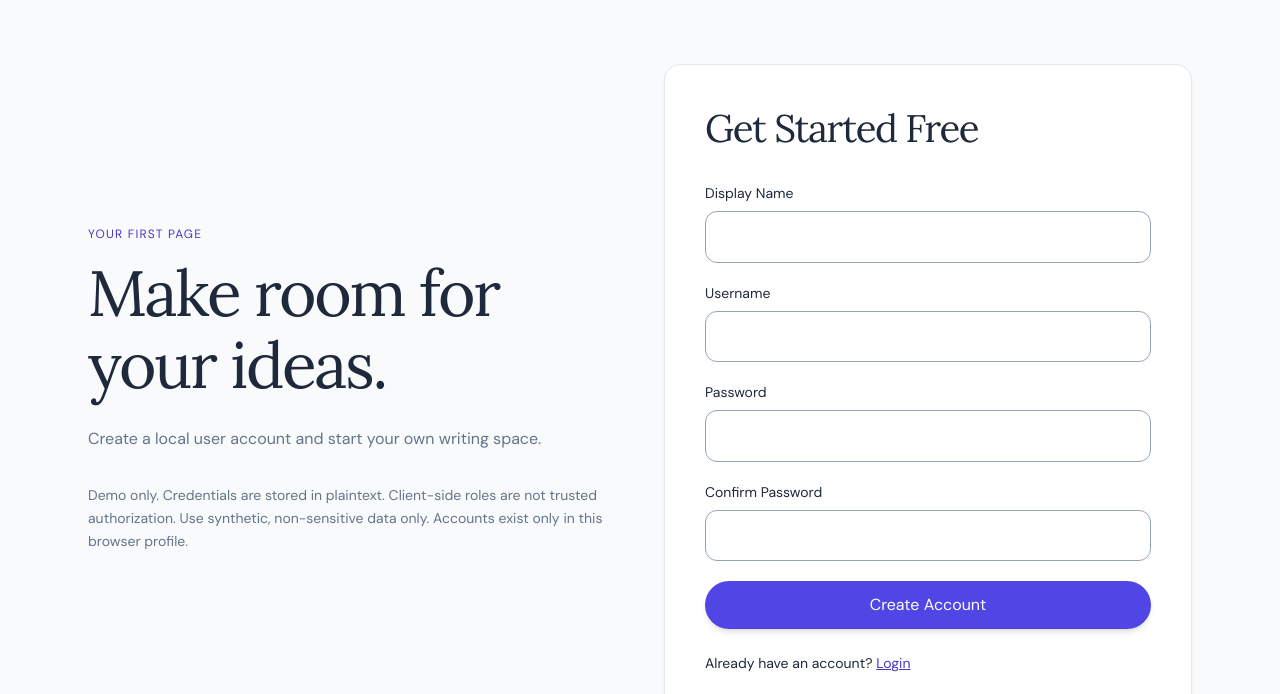
associates all required field errors and writes nothing
This screenshot has width=1280, height=694.
Click the button "Create Account" at (928, 606), box [705,582,1151,630]
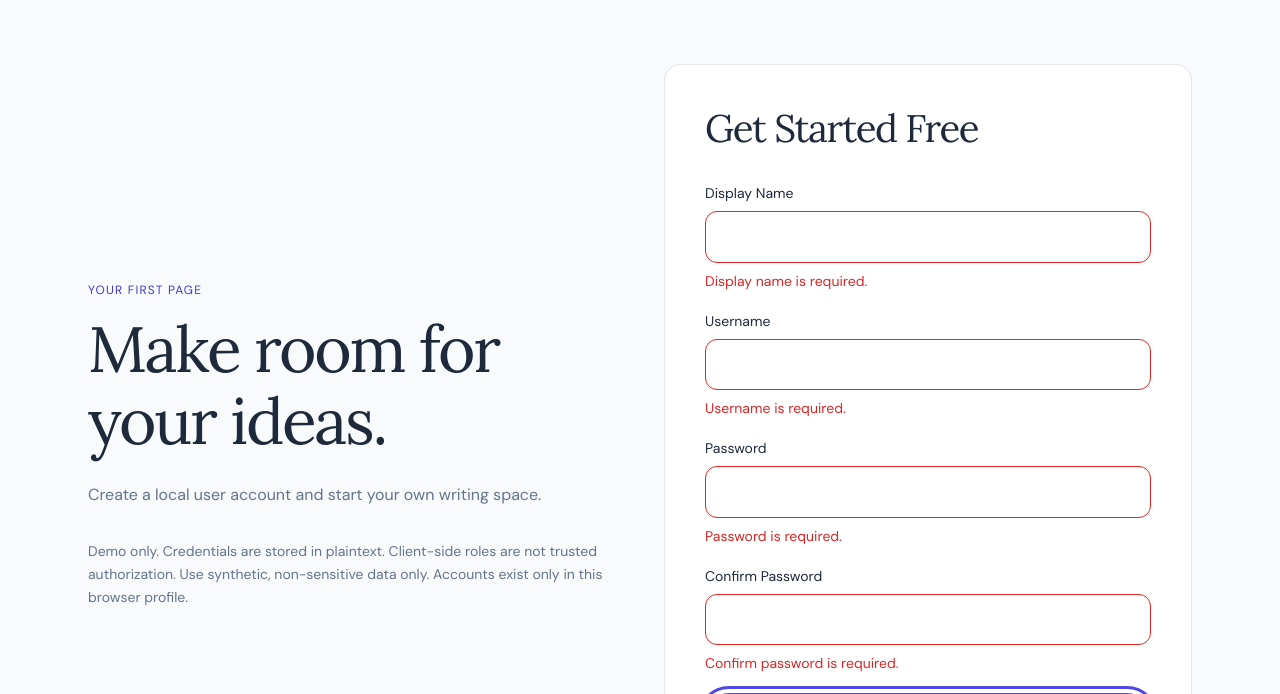
Expected: the number of messages is 4, [705,272,867,290]; [705,399,846,417]; [705,527,842,545]; [705,654,898,672]
